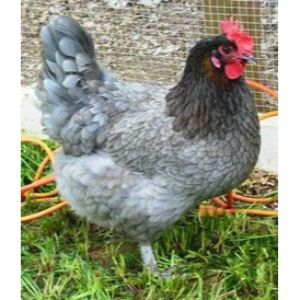hen: (29, 9, 268, 279)
